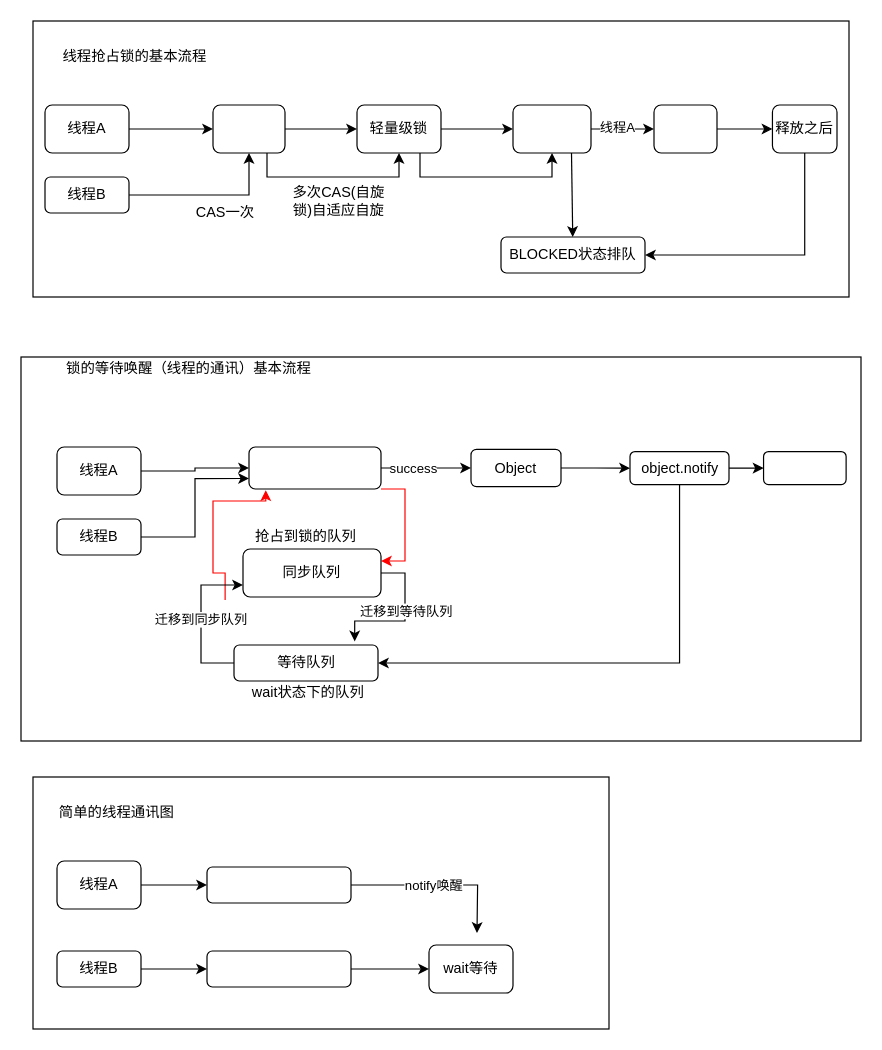
The diagram is 882 pixels wide and 1050 high, and some of its shapes have lost their labels. Here are the shapes that lost their labels. From the top down, the centre of each, then its label:
At point (248, 128): "偏向锁".
At point (551, 128): "重量接锁".
At point (685, 128): "执行".
At point (314, 467): "Monitor".
At point (804, 467): "monitorexit".
At point (278, 884): "持有锁".
At point (278, 968): "抢占锁".
